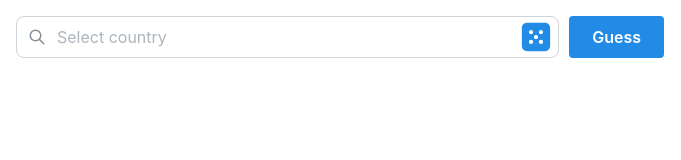
Test: <SelectCountry /> guess submission › suggests matching countries by name
Type "turk" into the field at (288, 37), box x1=16 y1=16 x2=559 y2=58
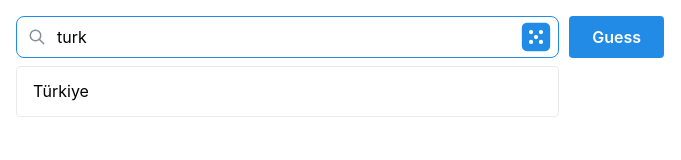
Expected: the option "Türkiye" is shown, x1=33 y1=81 x2=89 y2=101
